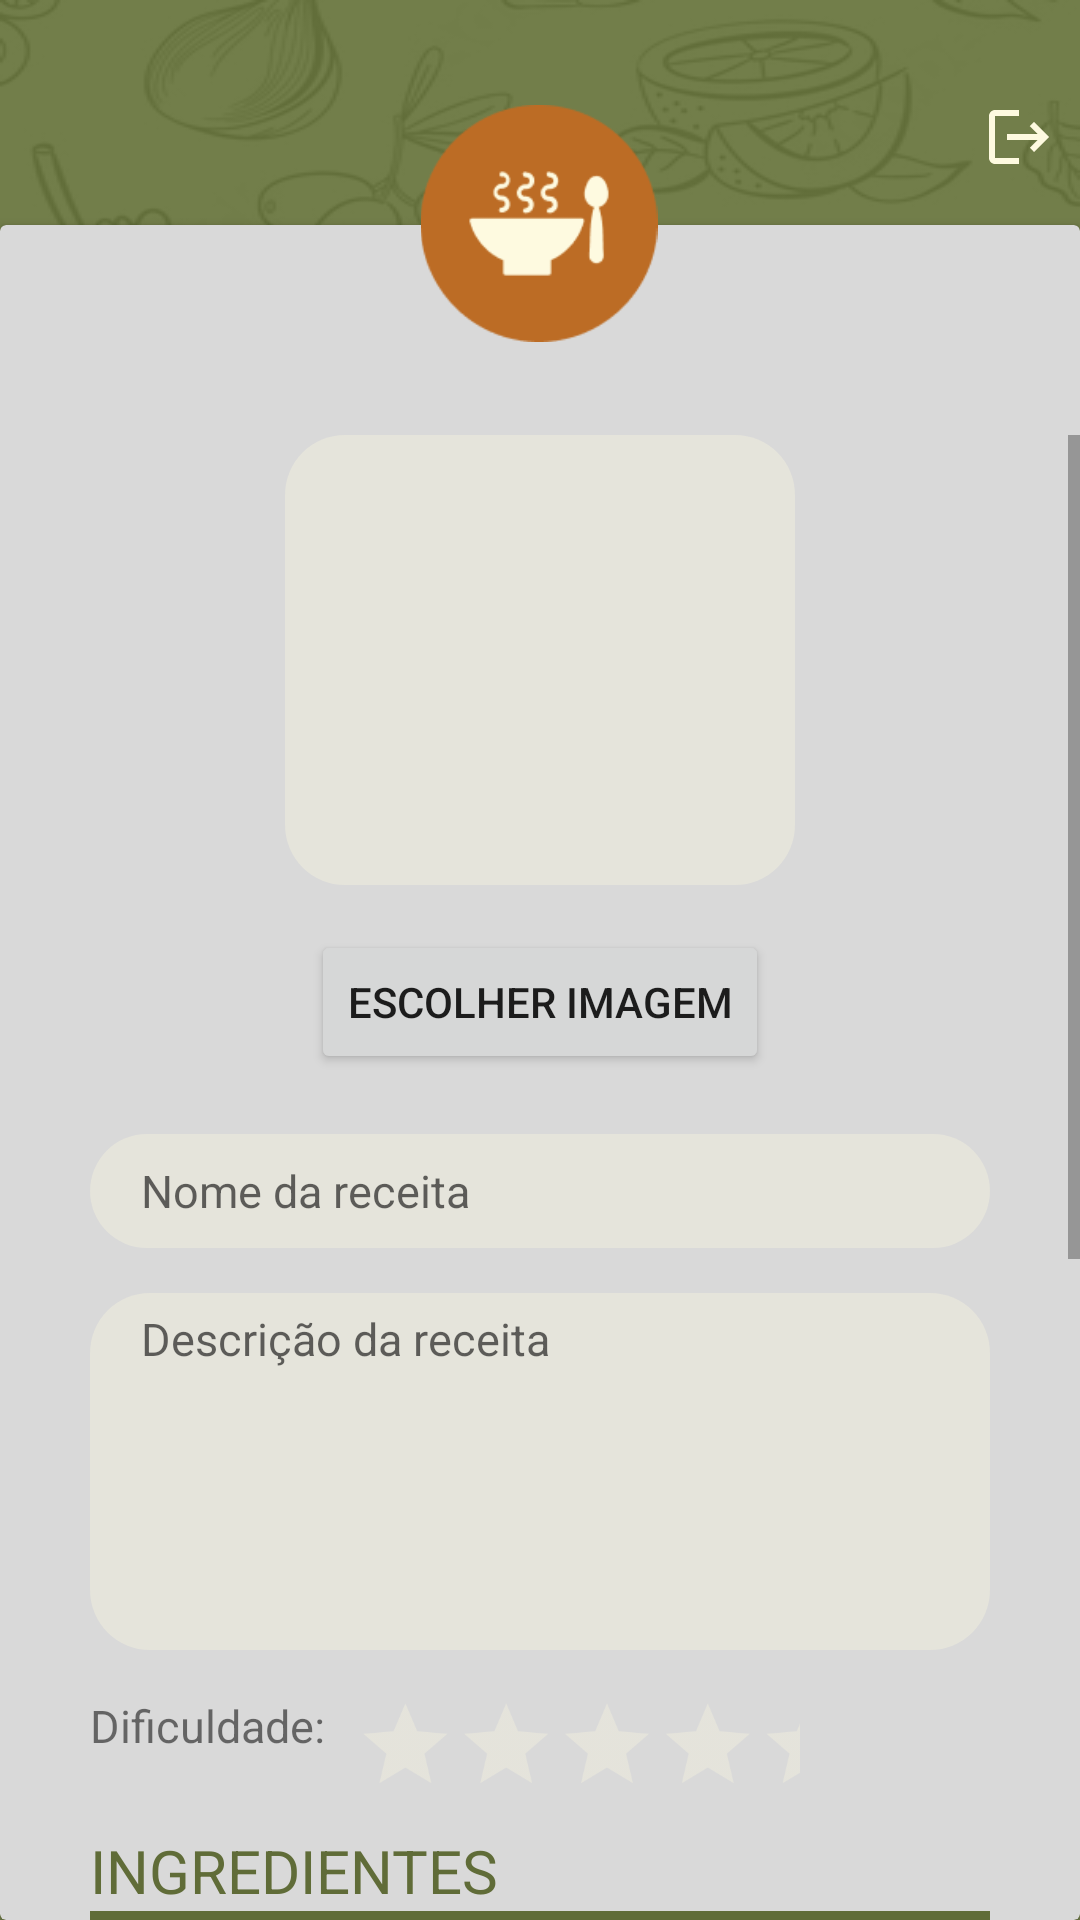

Icons on this 1080 × 1920 Android screen, each with the point to tap as point (x, y):
receitas: point (539, 223)
